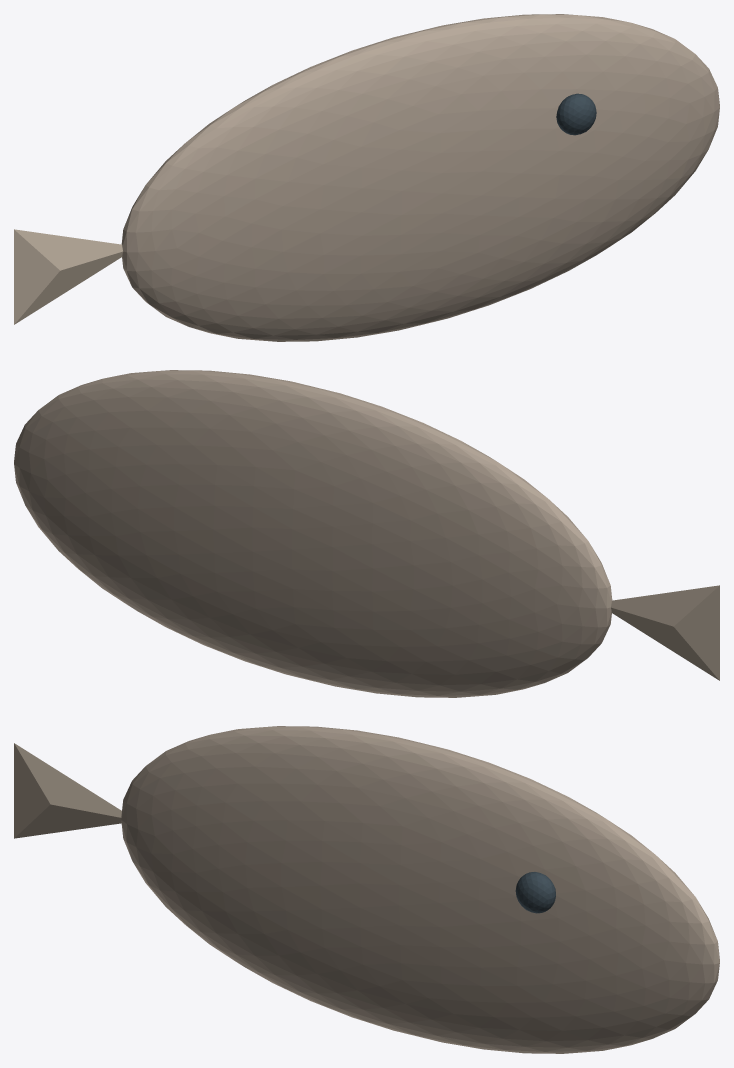
The model's file is Ikan_Sebelah.glb.
3 views of the same model, one above another, from view 1: azimuth 30°, elevation 25°; view 2: azimuth 150°, elevation 25°; view 3: azimuth 330°, elevation 25° (orthographic).
Parts seen in each view (by area): view 1: Part_00, Part_01, Part_02; view 2: Part_00, Part_01; view 3: Part_00, Part_01, Part_02.
Part boxes in pixels (box(x1,y1,x2,y2)): Part_00: box(121, 14, 719, 341); Part_01: box(14, 229, 122, 324); Part_02: box(556, 93, 596, 135); Part_00: box(14, 370, 612, 697); Part_01: box(611, 585, 719, 680); Part_00: box(121, 726, 719, 1053); Part_01: box(14, 743, 121, 838); Part_02: box(515, 872, 555, 913).
Size of the model in its own units: 1.25 by 0.495 by 0.152.
